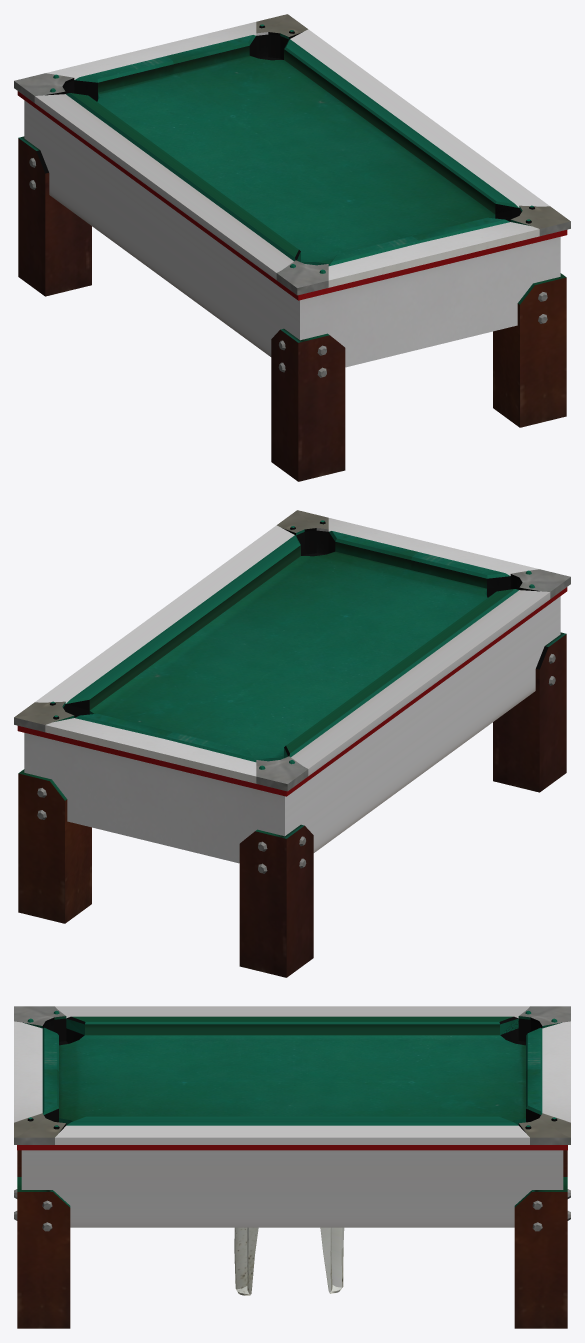
Rendered from PROP_mesa_bilhar.glb.
3 renders of one model, top to bottom at view 1: azimuth 30°, elevation 25°; view 2: azimuth 150°, elevation 25°; view 3: azimuth 270°, elevation 25°, orthographic.
Visible parts, largest first — view 1: mesa_sinuca.002; view 2: mesa_sinuca.002; view 3: mesa_sinuca.002, Cube.002.
Boxes of the visible parts, left/top/right/bottom form: mesa_sinuca.002: left=14, top=14, right=570, bottom=481; mesa_sinuca.002: left=14, top=510, right=570, bottom=977; mesa_sinuca.002: left=14, top=1006, right=570, bottom=1328; Cube.002: left=234, top=1227, right=344, bottom=1295.
Size of the model in its own units: 1.26 by 0.8862 by 2.26.
2 materials, 2 textured.
